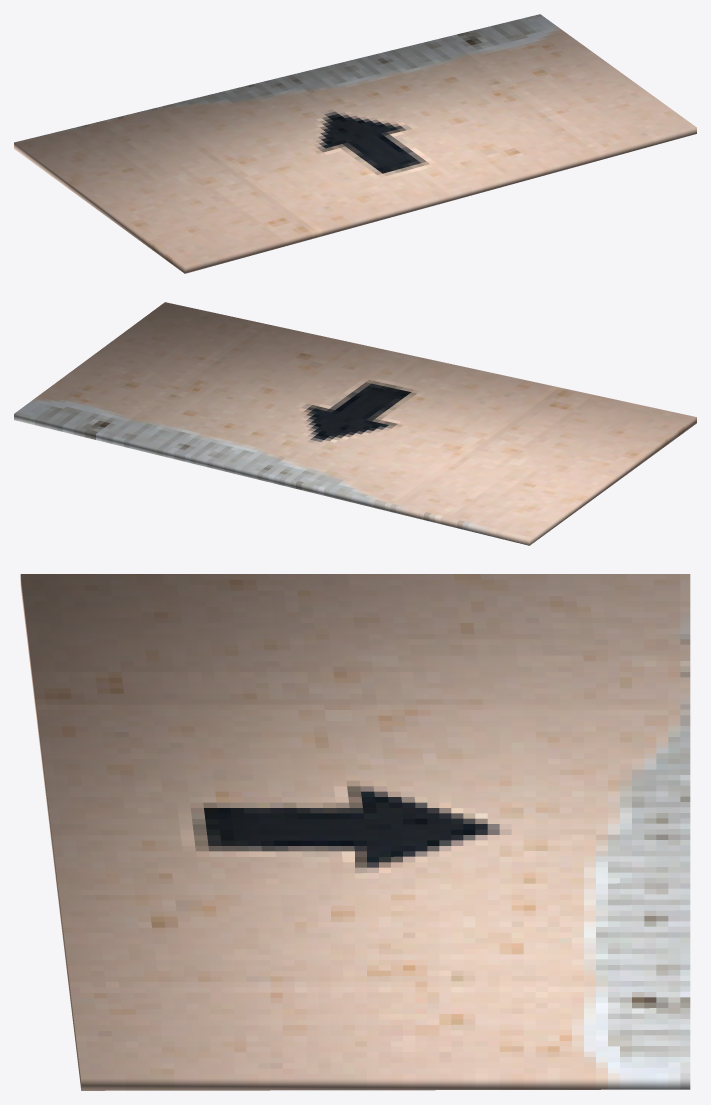
The model's file is cardboard_cutout_2.glb.
The picture shows the model from 3 angles, top to bottom: view 1: azimuth 30°, elevation 25°; view 2: azimuth 150°, elevation 25°; view 3: azimuth 270°, elevation 25°; orthographic projection. The views are drawn at different scales.
Visible parts, largest first — view 1: Cardboard_Cutout_2; view 2: Cardboard_Cutout_2; view 3: Cardboard_Cutout_2.
Part boxes in pixels (x1,y1,x2,y2): Cardboard_Cutout_2: (14, 14, 696, 273); Cardboard_Cutout_2: (14, 302, 696, 545); Cardboard_Cutout_2: (20, 574, 690, 1090).
Size of the model in its own units: 2 by 0.0228 by 1.12.
Materials: 1 (1 with a texture image).
